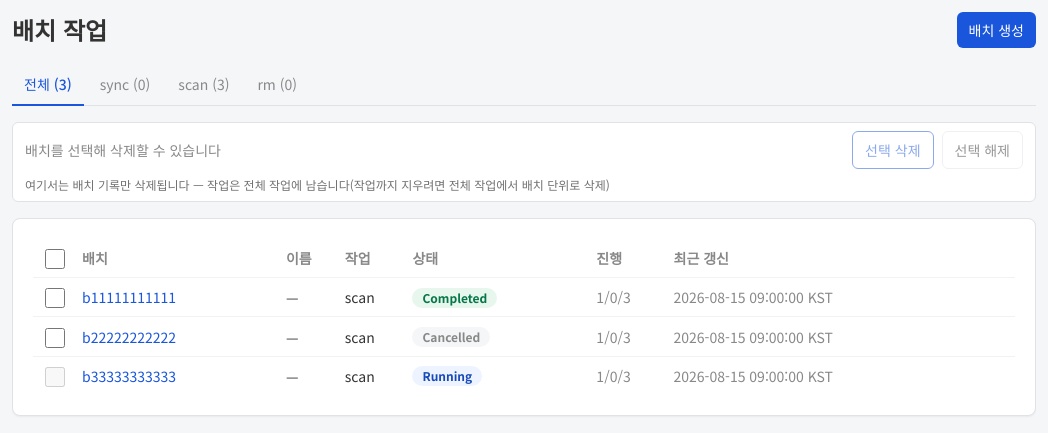
it: 액션 바 내용: N개 선택됨 · 선택 삭제 · 선택 해제 — 해제하면 안내 문구로 되돌아온다
The image size is (1048, 433).
Expected: the text "개 선택됨" is not shown
Click the checkbox named "배치 b11111111111 선택" at (55, 298), box [45,288,65,308]
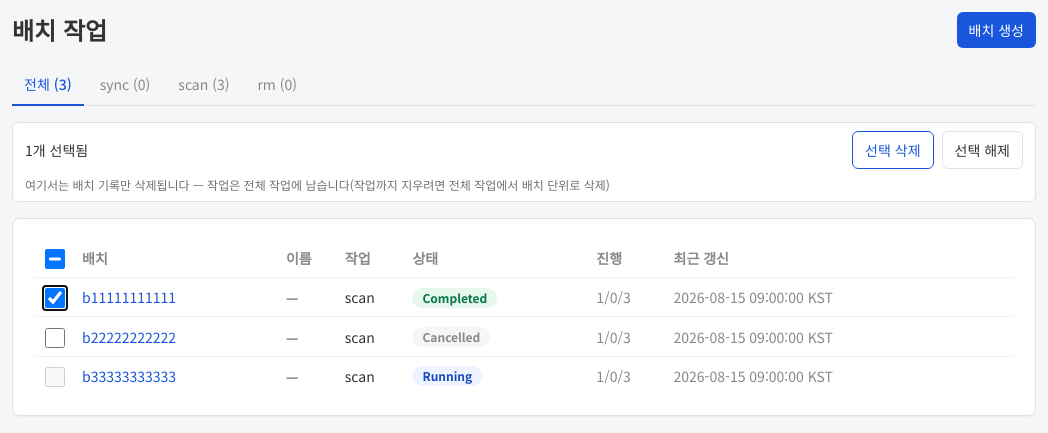
Click the checkbox named "배치 b22222222222 선택" at (55, 338), box [45,328,65,348]
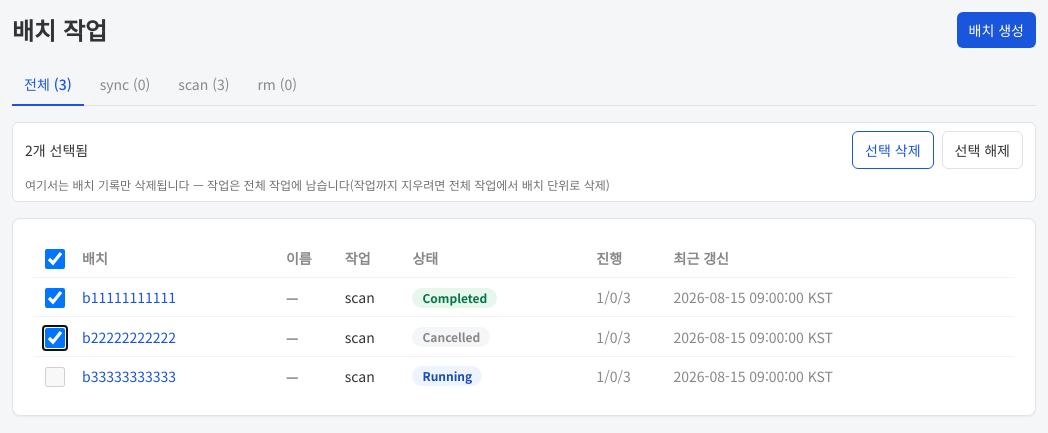
Now the button "선택 삭제" is enabled, box [852,131,934,169]
Now the text "2개 선택됨" is shown, box [25,140,88,160]
Click the button "선택 해제" at (982, 150), box [942,131,1023,169]
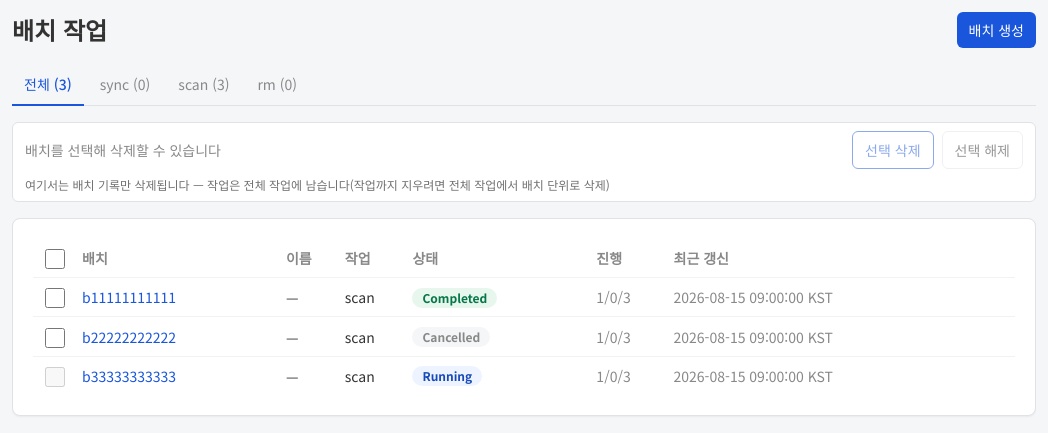
Now the text "개 선택됨" is gone
